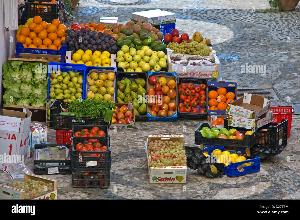apple: (148, 74, 178, 120), (118, 44, 166, 71), (202, 147, 254, 169), (195, 127, 247, 141), (72, 51, 110, 67), (109, 104, 133, 124)
avocado: (120, 35, 168, 49)
grape: (0, 172, 54, 200), (148, 136, 186, 174), (168, 55, 218, 67), (170, 41, 212, 55)
mango: (116, 20, 162, 36)
orange: (14, 18, 65, 51)
pear: (118, 74, 146, 116), (50, 67, 82, 103), (84, 70, 114, 104)
plum: (63, 30, 115, 50)
tomato: (178, 78, 208, 114), (72, 137, 108, 157), (209, 87, 234, 115), (74, 125, 109, 139)
